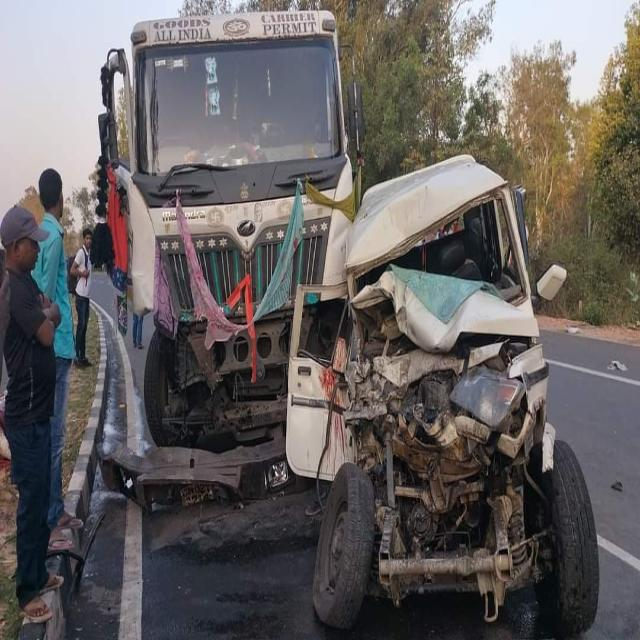accident: (285, 155, 598, 637), (98, 11, 362, 503)
